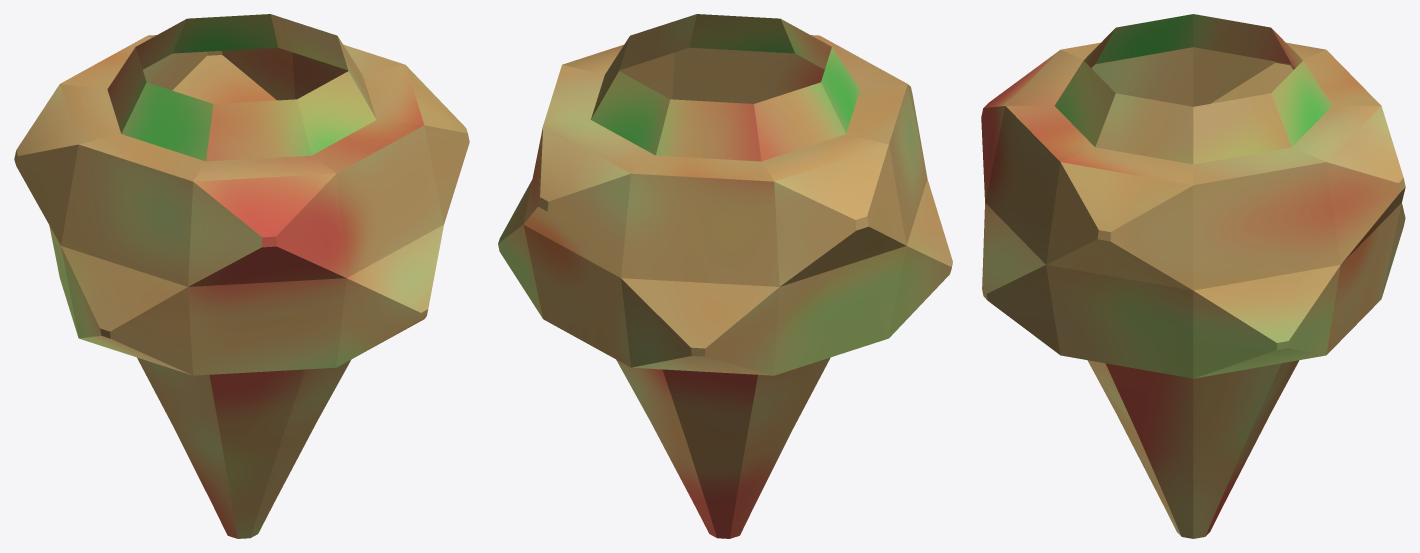
File: WormTail_UV.fbx
3 views of the same model, side by side, from view 1: azimuth 30°, elevation 25°; view 2: azimuth 150°, elevation 25°; view 3: azimuth 270°, elevation 25° (orthographic).
Visible parts, largest first — view 1: Worm_TailA_UV; view 2: Worm_TailA_UV; view 3: Worm_TailA_UV.
Boxes of the visible parts, x1=… form: Worm_TailA_UV: x1=14, y1=14, x2=469, y2=538; Worm_TailA_UV: x1=498, y1=14, x2=952, y2=538; Worm_TailA_UV: x1=981, y1=14, x2=1405, y2=538.
Bounding box in the file's own units: 3.05 × 3.74 × 3.05.
Materials: 1 (1 with a texture image).
